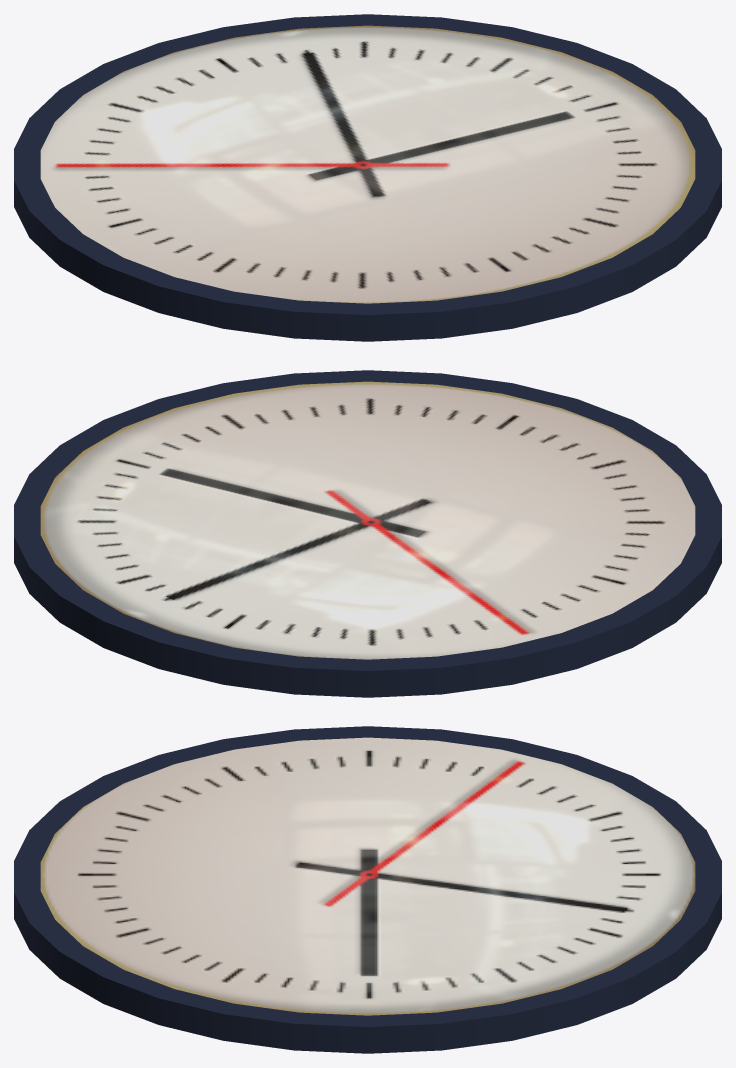
File: clock5.FBX
The picture shows the model from 3 angles, top to bottom: view 1: azimuth 30°, elevation 25°; view 2: azimuth 150°, elevation 25°; view 3: azimuth 270°, elevation 25°; orthographic projection.
Parts seen in each view (by area): view 1: clock5; view 2: clock5; view 3: clock5.
Part boxes in pixels (x1,y1,x2,y2): clock5: (14,14,721,341); clock5: (14,370,721,697); clock5: (14,726,721,1053).
Bounding box in the file's own units: 3.5 × 0.145 × 3.48.
